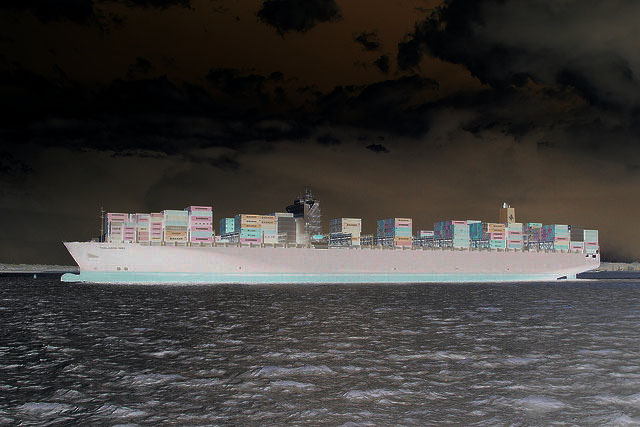container_ship: (57, 187, 602, 284)
